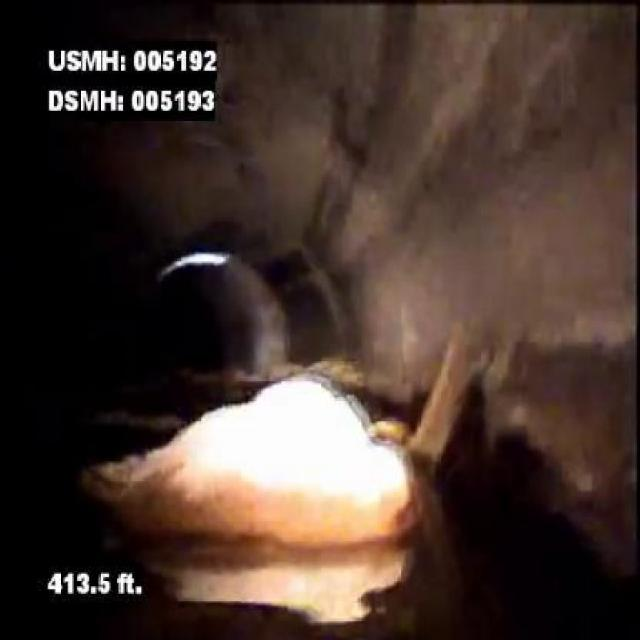Debris: (64, 365, 433, 549)
